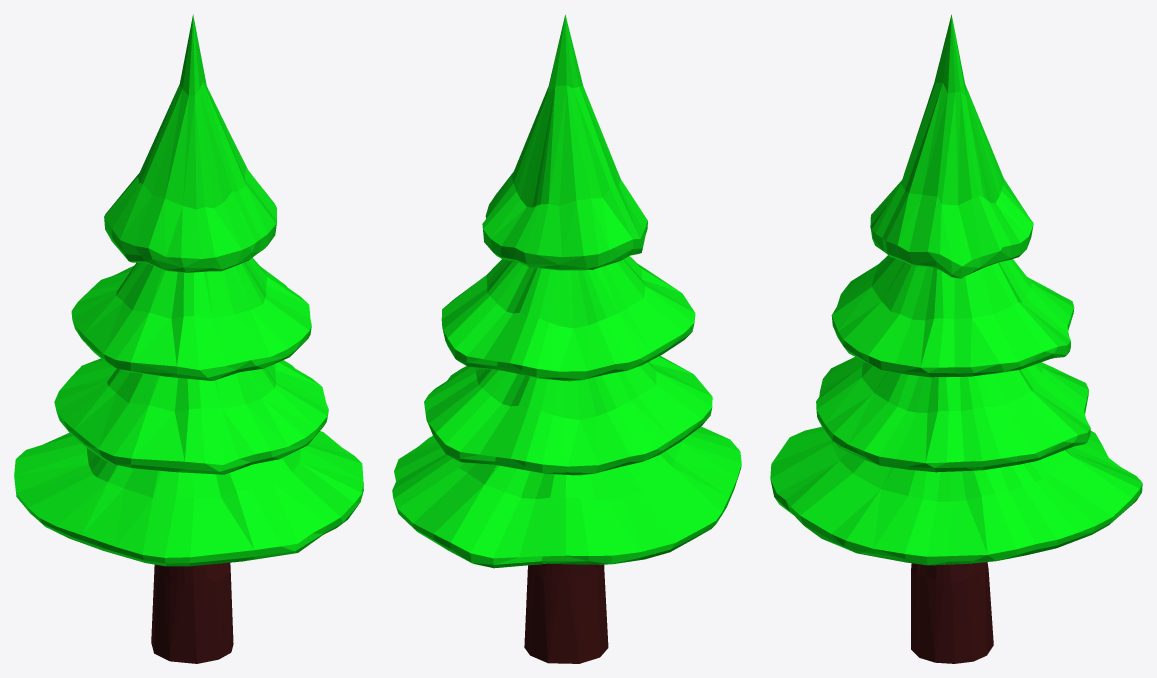
The model's file is Arbre1.fbx.
The picture shows the model from 3 angles, left to right: view 1: azimuth 30°, elevation 25°; view 2: azimuth 150°, elevation 25°; view 3: azimuth 270°, elevation 25°; orthographic projection.
Parts seen in each view (by area): view 1: Feuilles_LOD0, Tronc_LOD0; view 2: Feuilles_LOD0, Tronc_LOD0; view 3: Feuilles_LOD0, Tronc_LOD0.
Boxes of the visible parts, x1=… form: Feuilles_LOD0: x1=14, y1=14, x2=363, y2=566; Tronc_LOD0: x1=151, y1=562, x2=233, y2=663; Feuilles_LOD0: x1=392, y1=14, x2=741, y2=568; Tronc_LOD0: x1=524, y1=563, x2=608, y2=663; Feuilles_LOD0: x1=770, y1=14, x2=1142, y2=565; Tronc_LOD0: x1=911, y1=562, x2=993, y2=663.
Size of what is drawn, in the model's own units: 843 by 1689 by 900.
